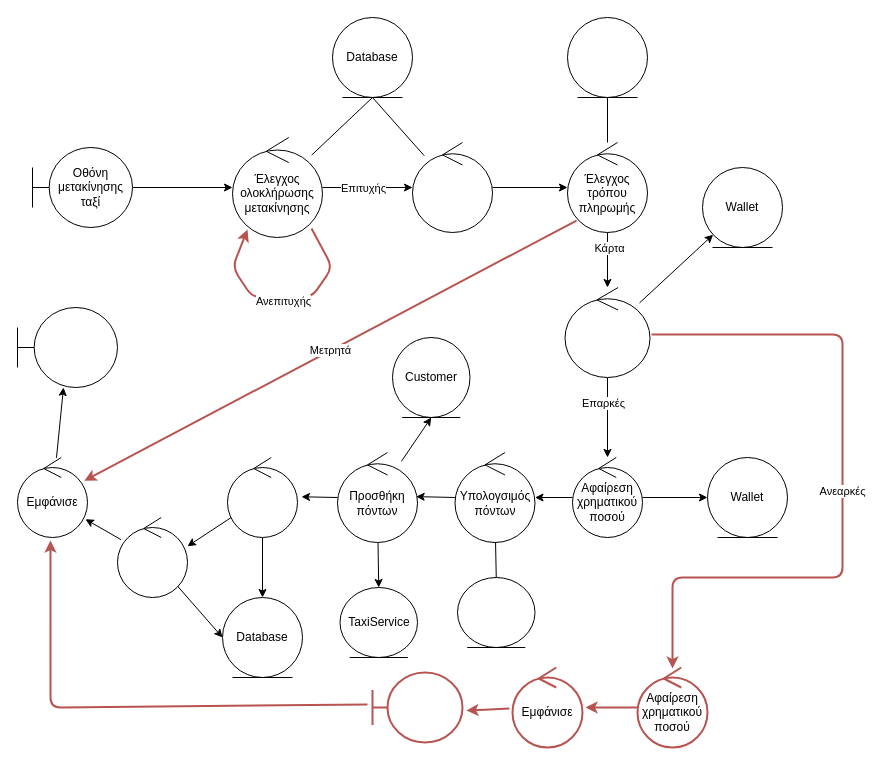
The diagram is 883 pixels wide and 766 high, and some of its shapes have lost their labels. The shapes that lost their labels are listed below. From the top down, each one's centre as x and y in pixels, then its label:
the point at 607,57: Service
the point at 452,187: Ανάκτηση κόστους μετακίνησης
the point at 67,347: Αρχική οθόνη
the point at 607,332: Έχει ο πελάτης επαρκές υπόλοιπο;
the point at 262,497: Ενημέρωση πόντων και υπολοίπου
the point at 152,557: Ενημέρωση κατάστασης διαδρομής
the point at 495,612: Points
the point at 417,707: Μήνυμα σφάλματος
